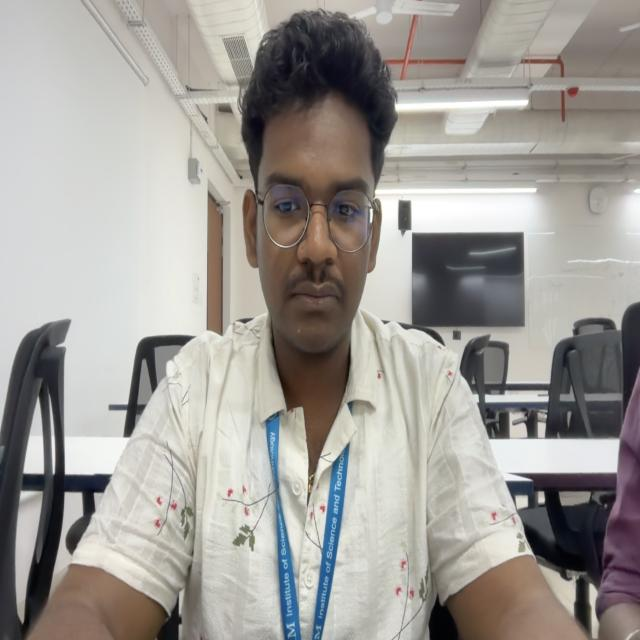sai: (240, 16, 384, 357)
